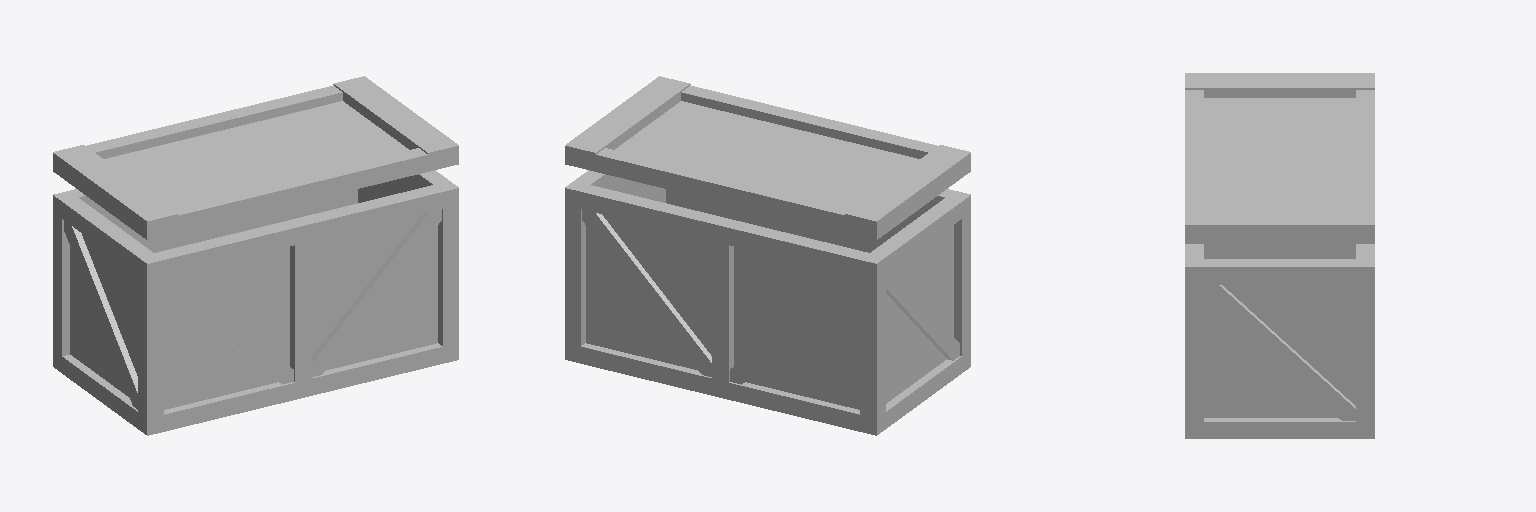
Rendered from Crate1.obj.
The picture shows the model from 3 angles: view 1: azimuth 30°, elevation 25°; view 2: azimuth 150°, elevation 25°; view 3: azimuth 270°, elevation 25°; orthographic projection.
Visible parts, largest first — view 1: Crate_1 Crate_1_Body, Crate_1_Top Crate_1; view 2: Crate_1 Crate_1_Body, Crate_1_Top Crate_1; view 3: Crate_1 Crate_1_Body, Crate_1_Top Crate_1.
Boxes of the visible parts, x1,y1,x2,y2 form: Crate_1 Crate_1_Body: [53, 170, 458, 435]; Crate_1_Top Crate_1: [53, 76, 458, 239]; Crate_1 Crate_1_Body: [565, 170, 970, 435]; Crate_1_Top Crate_1: [565, 76, 970, 239]; Crate_1 Crate_1_Body: [1185, 244, 1374, 438]; Crate_1_Top Crate_1: [1185, 73, 1374, 243].
Bounding box in the file's own units: 1.9 × 1.25 × 0.9992.